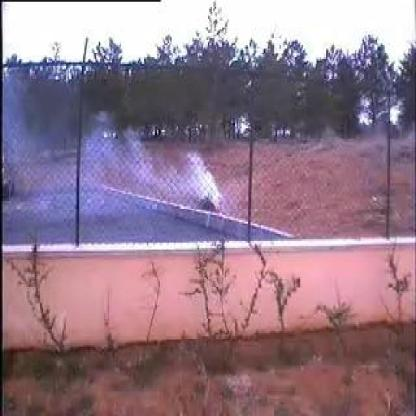-: (31, 113, 226, 242)
